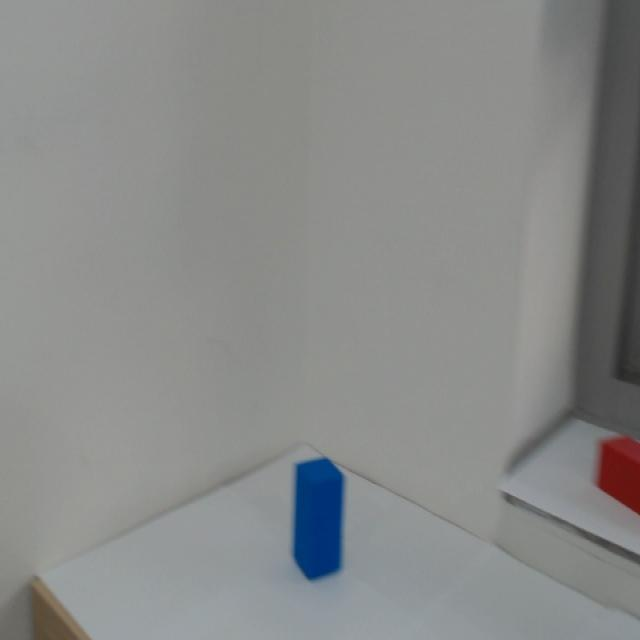cube: (275, 442, 371, 595)
